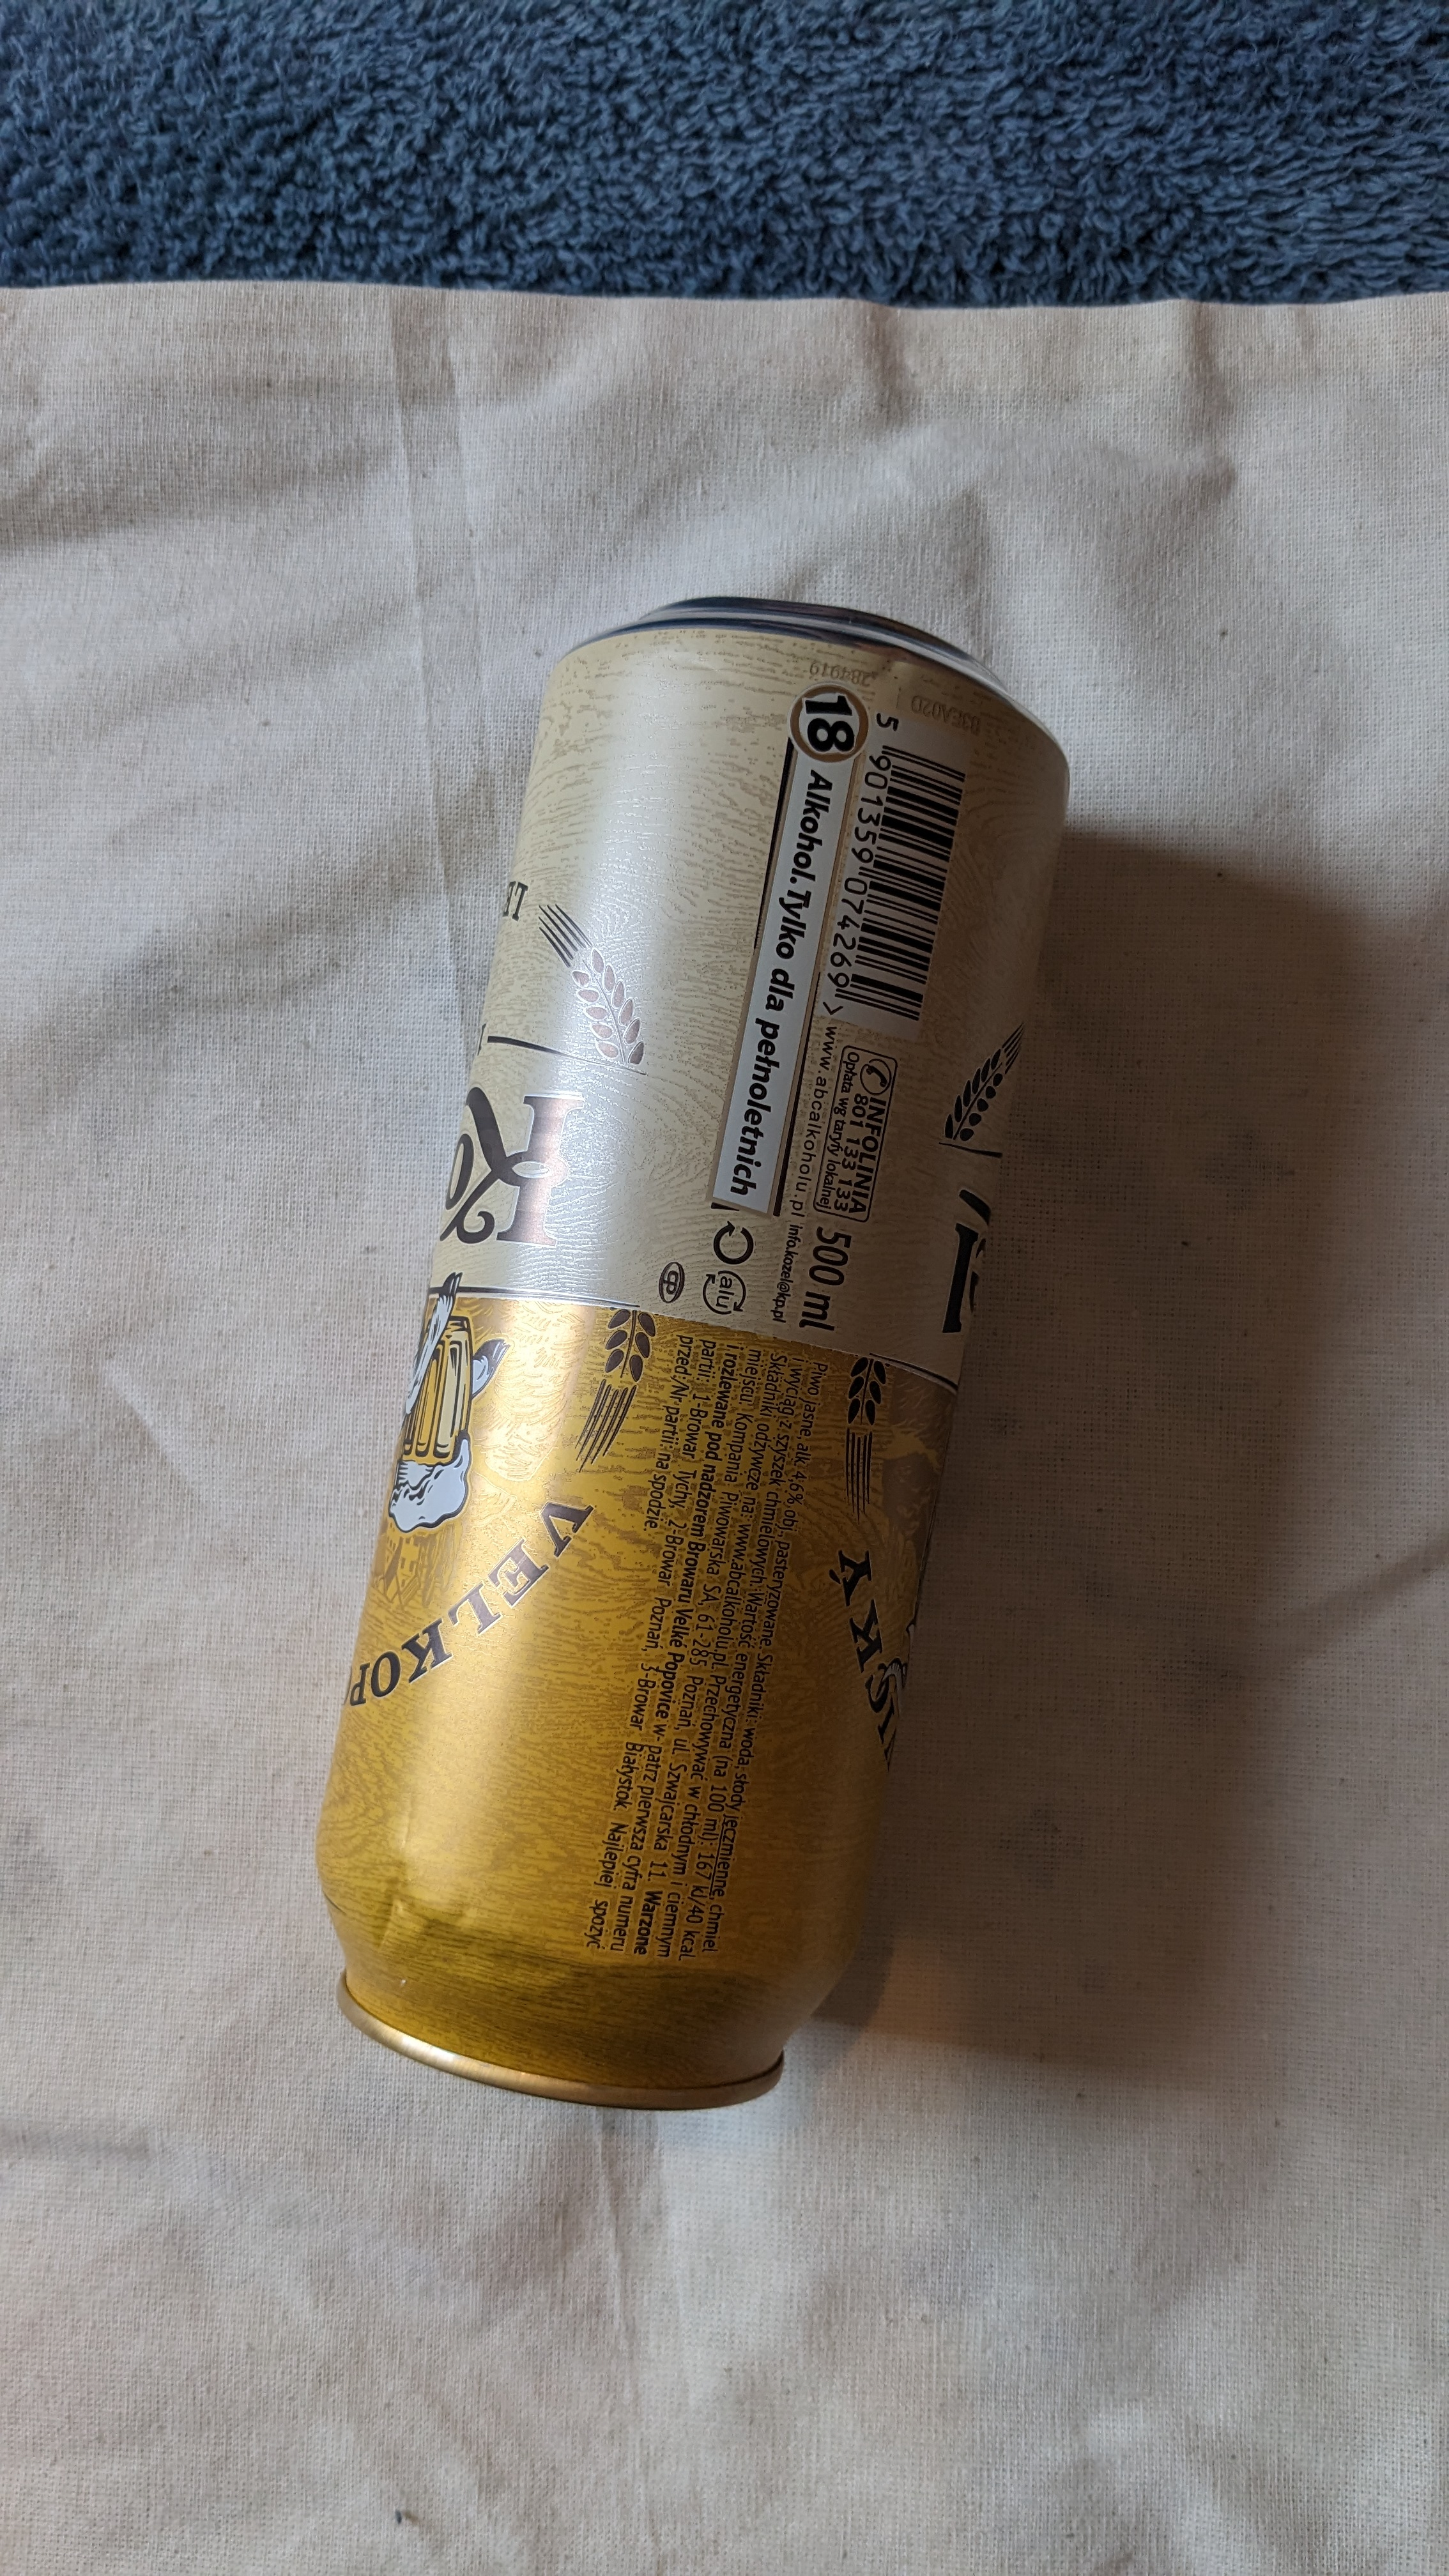kozel: (280, 566, 1079, 2155)
